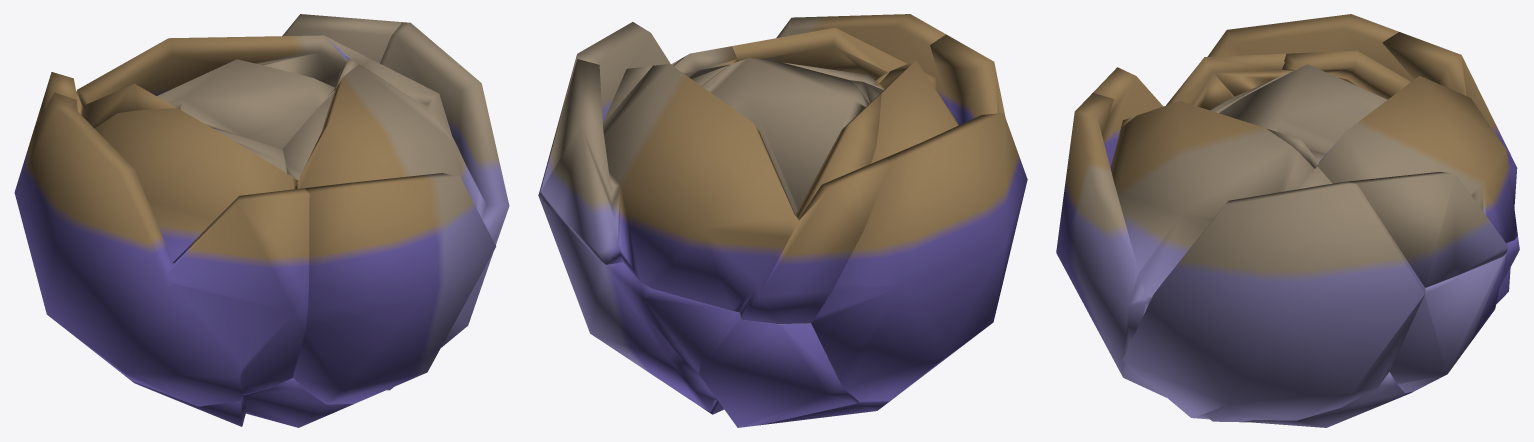
Rendered from Cabbage_01 Fracture.fbx.
The picture shows the model from 3 angles, left to right: view 1: azimuth 30°, elevation 25°; view 2: azimuth 150°, elevation 25°; view 3: azimuth 270°, elevation 25°; orthographic projection. The views are drawn at different scales.
Parts seen in each view (by area): view 1: Cabbage_01_cell, Cabbage_01_cell.001, Cabbage_01_cell.002, Cabbage_01_cell.003; view 2: Cabbage_01_cell.002, Cabbage_01_cell, Cabbage_01_cell.004, Cabbage_01_cell.001, Cabbage_01_cell.003; view 3: Cabbage_01_cell.001, Cabbage_01_cell.002, Cabbage_01_cell, Cabbage_01_cell.004, Cabbage_01_cell.003.
Boxes of the visible parts, x1,y1,x2,y2 form: Cabbage_01_cell: [14, 92, 309, 406]; Cabbage_01_cell.001: [282, 22, 509, 404]; Cabbage_01_cell.002: [35, 14, 402, 149]; Cabbage_01_cell.003: [124, 375, 353, 427]; Cabbage_01_cell.002: [540, 46, 890, 323]; Cabbage_01_cell: [811, 34, 1027, 401]; Cabbage_01_cell.004: [538, 191, 859, 427]; Cabbage_01_cell.001: [538, 14, 949, 195]; Cabbage_01_cell.003: [701, 396, 896, 425]; Cabbage_01_cell.001: [1056, 92, 1424, 422]; Cabbage_01_cell.002: [1219, 32, 1517, 287]; Cabbage_01_cell: [1093, 14, 1414, 166]; Cabbage_01_cell.004: [1389, 205, 1519, 392]; Cabbage_01_cell.003: [1242, 372, 1413, 427].
Bounding box in the file's own units: 51.31 × 36.65 × 48.75.
